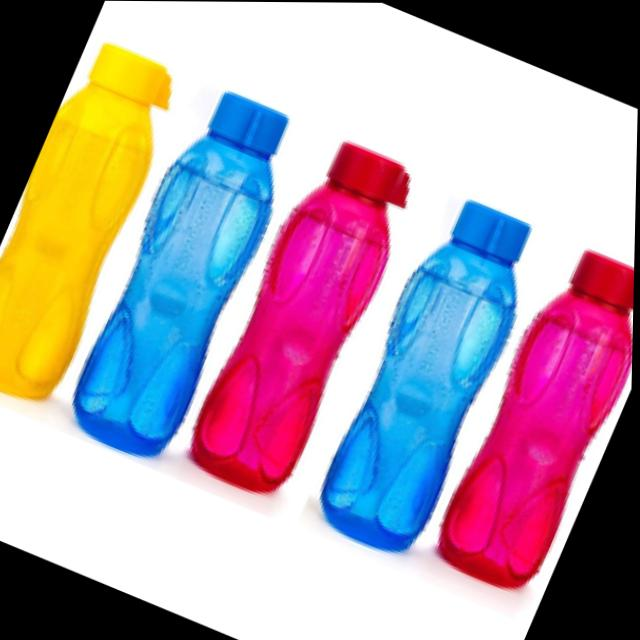plastic_water_bottles: (55, 76, 313, 471), (173, 123, 426, 517), (306, 180, 556, 566), (424, 231, 636, 605), (0, 30, 196, 411)
